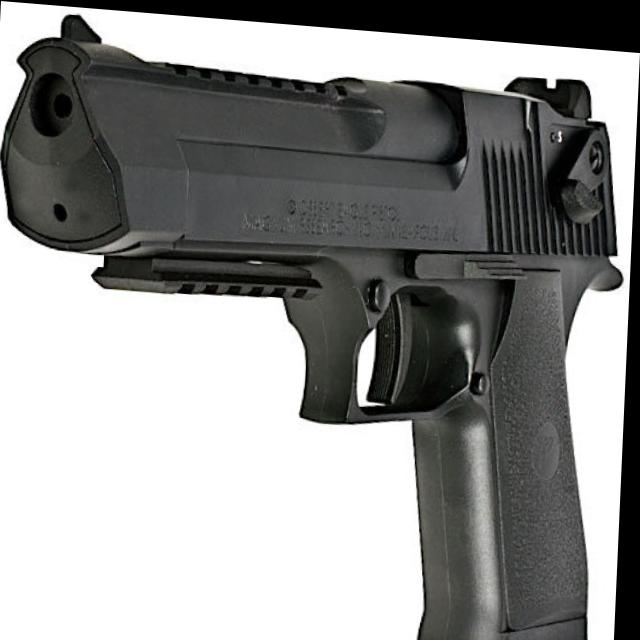handgun: (0, 1, 640, 640)
